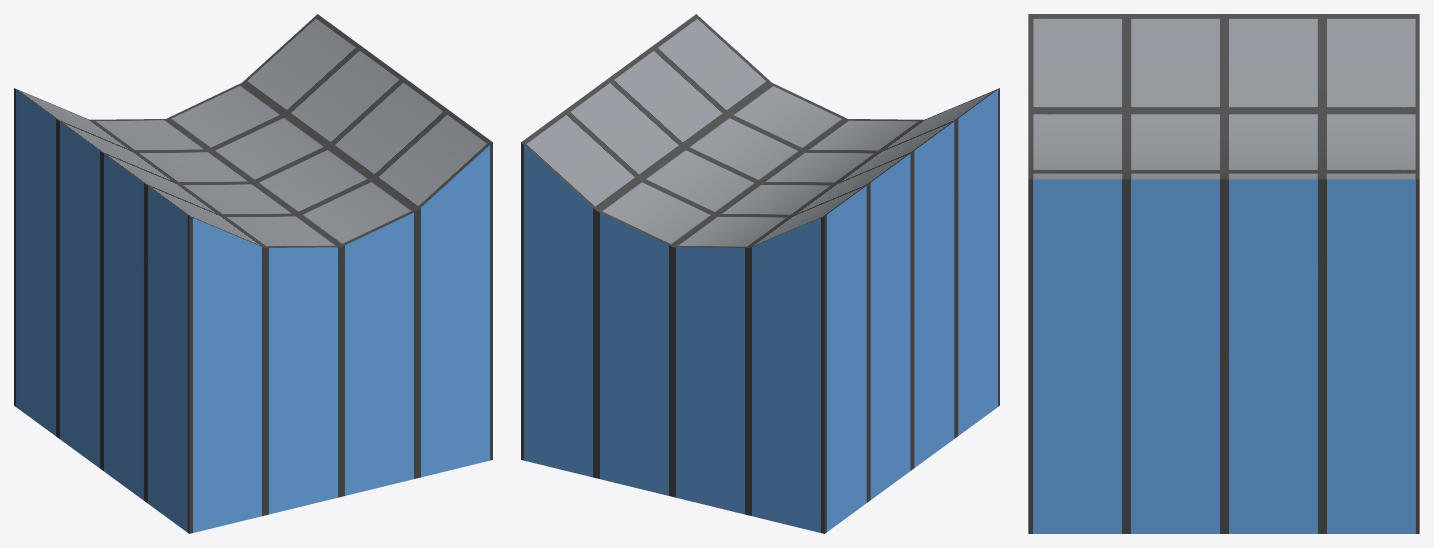
Rendered from concave_4x4_02.fbx.
3 renders of one model, left to right at view 1: azimuth 30°, elevation 25°; view 2: azimuth 150°, elevation 25°; view 3: azimuth 270°, elevation 25°, orthographic. The views are drawn at different scales.
Parts seen in each view (by area): view 1: concave_4x4_02; view 2: concave_4x4_02; view 3: concave_4x4_02.
Boxes of the visible parts, <box> form: concave_4x4_02: <box>14,14,492,533</box>; concave_4x4_02: <box>521,14,999,533</box>; concave_4x4_02: <box>1028,14,1419,533</box>.
Bounding box in the file's own units: 320 × 320 × 320.
2 materials, 2 textured.
